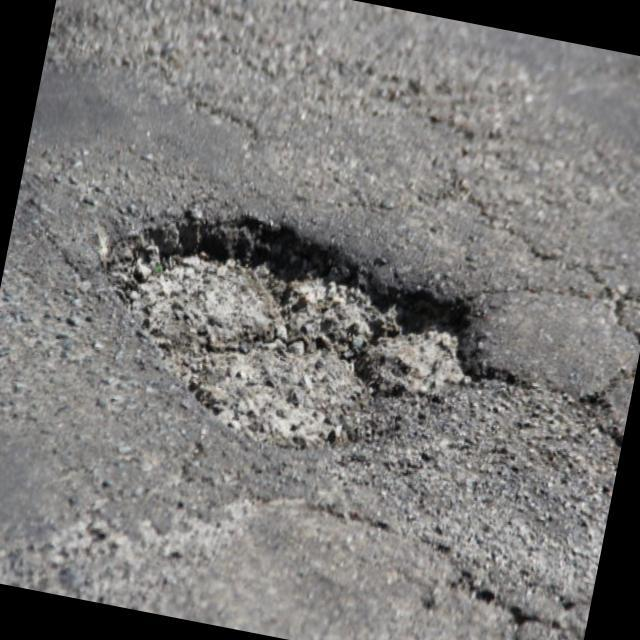Pothole: (60, 178, 598, 512)
